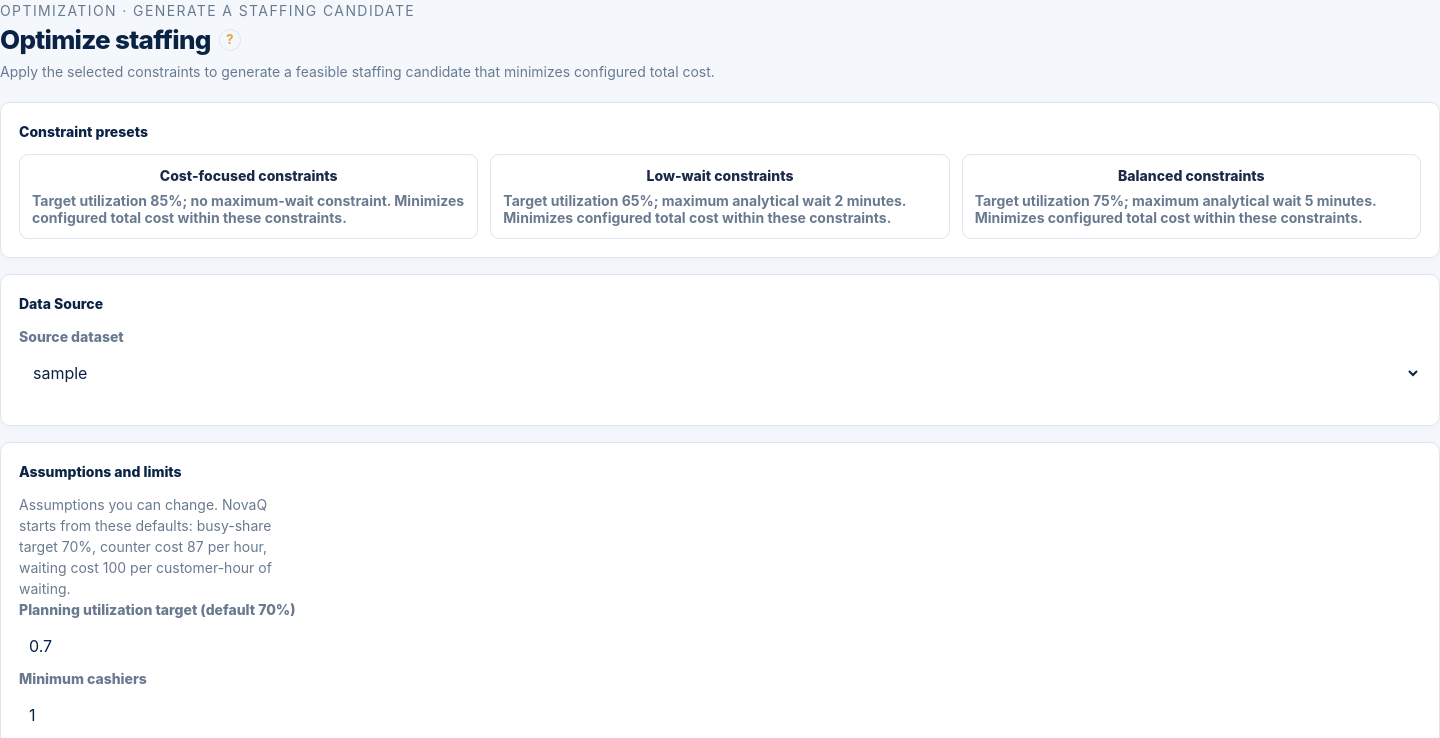
calculation integrity › blocks saving after the input selection changes
This screenshot has width=1440, height=738.
Step 1. Select "sample" in the dropdown labelled "Source dataset" → {"x": 720, "y": 373}, box 19,351 -> 1421,395
(page scrolled)
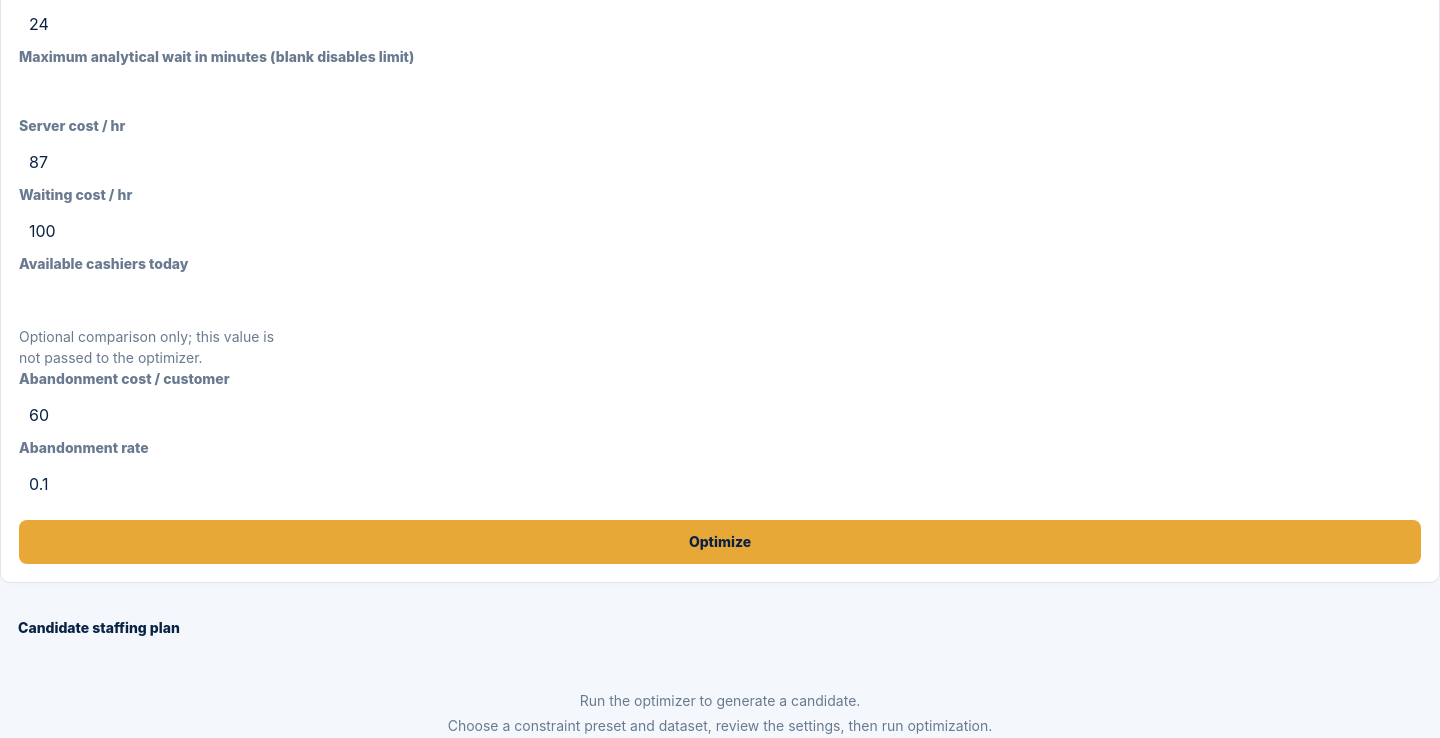
Step 2. Click the button "Optimize" → {"x": 720, "y": 542}, box 19,520 -> 1421,564
(page scrolled)
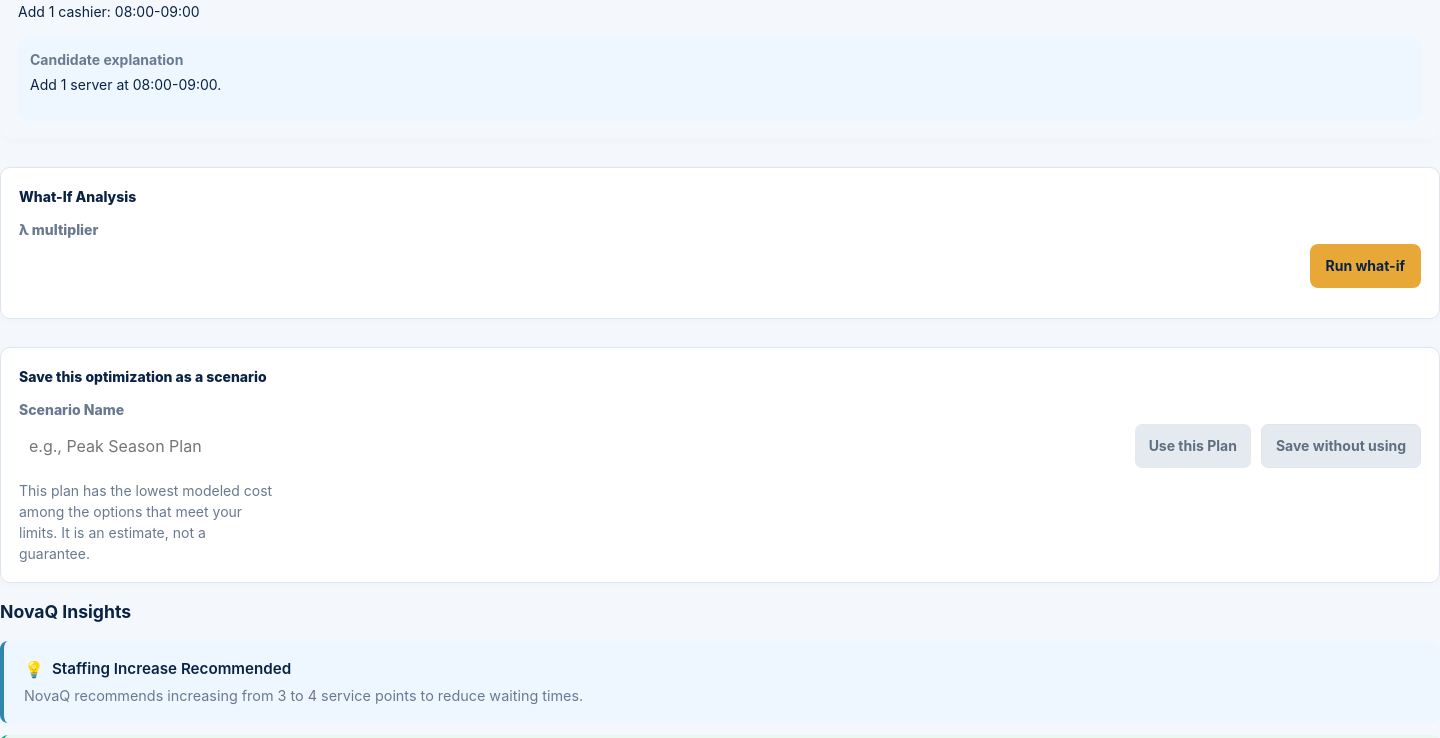
Step 3. Type "stale plan" into the field labelled "Scenario Name" → {"x": 572, "y": 446}, box 19,424 -> 1125,468
(page scrolled)
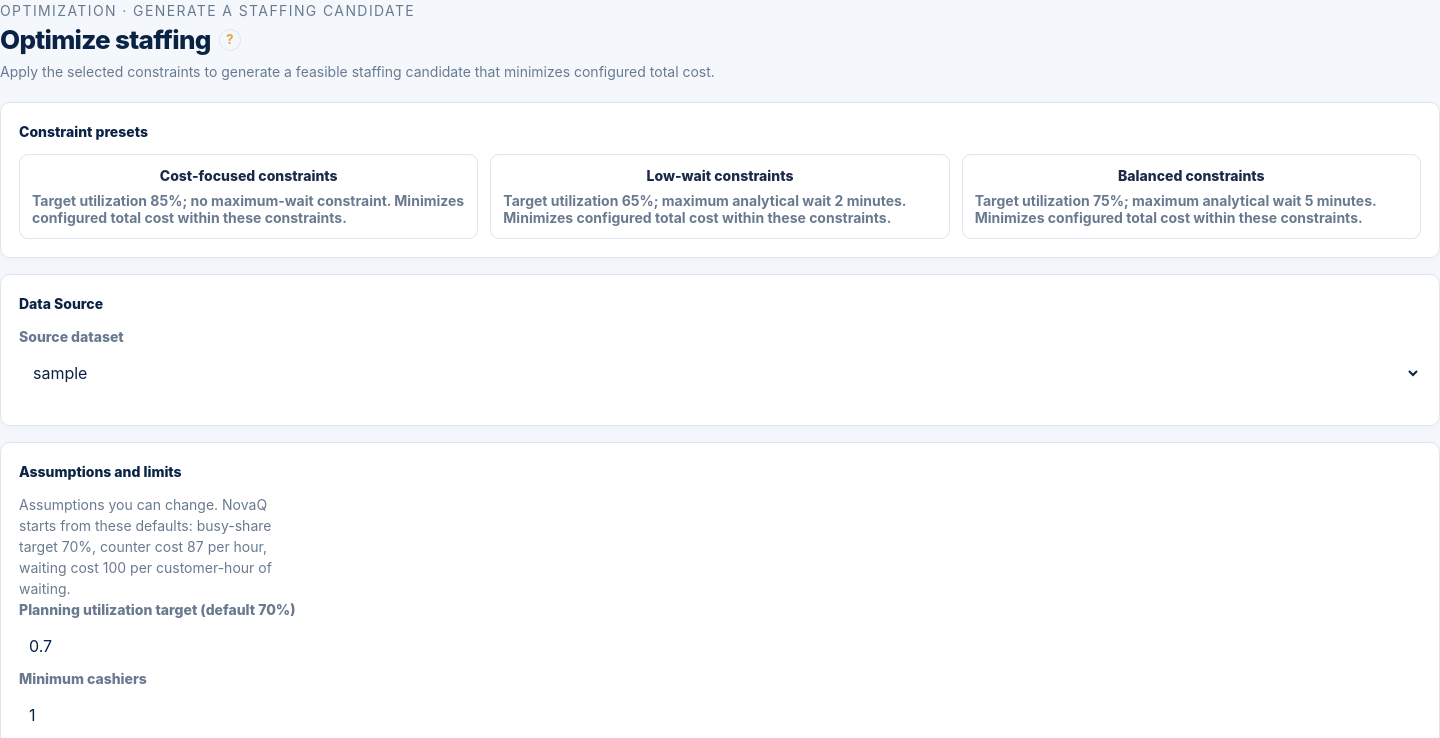
Step 4. Select "—" in the dropdown labelled "Source dataset" → {"x": 720, "y": 373}, box 19,351 -> 1421,395
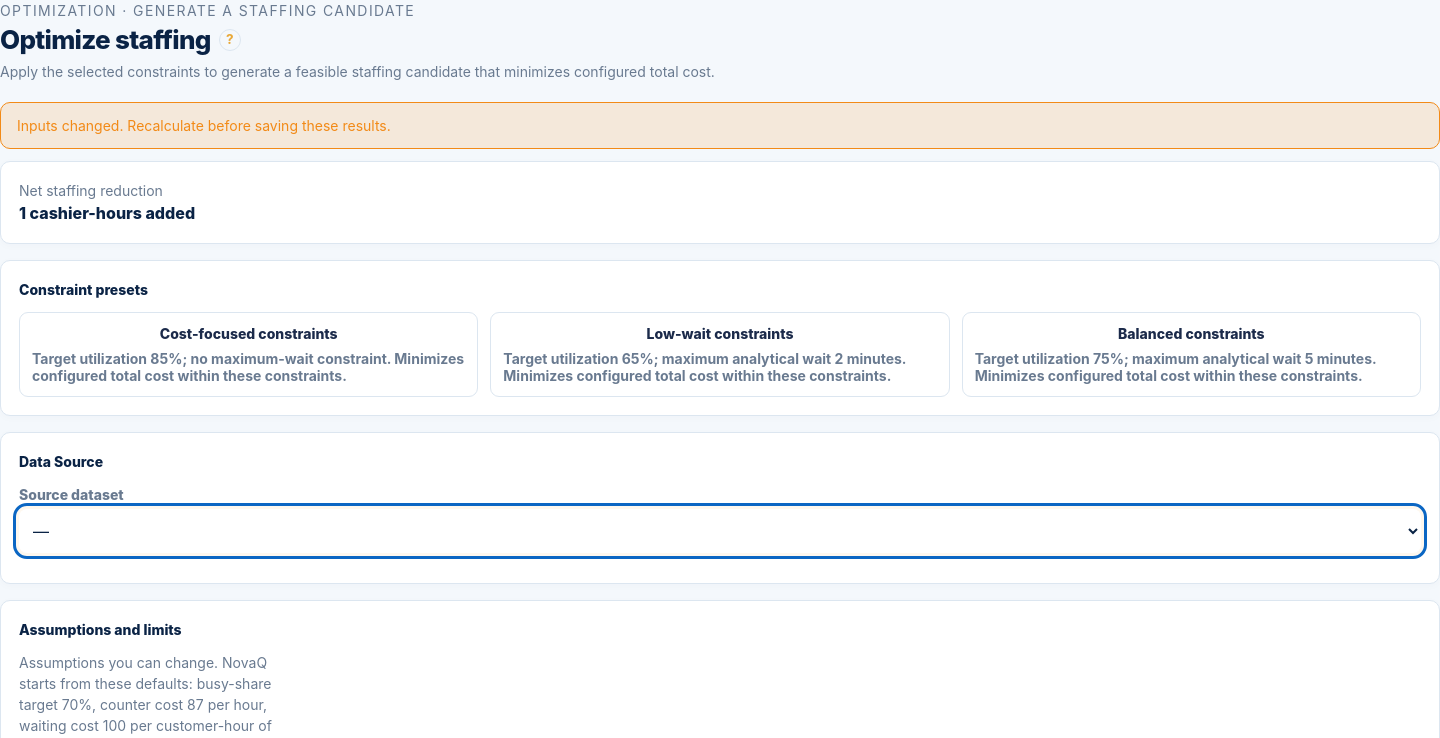
Result: the message shows "Inputs changed" at 17,117 -> 391,134
